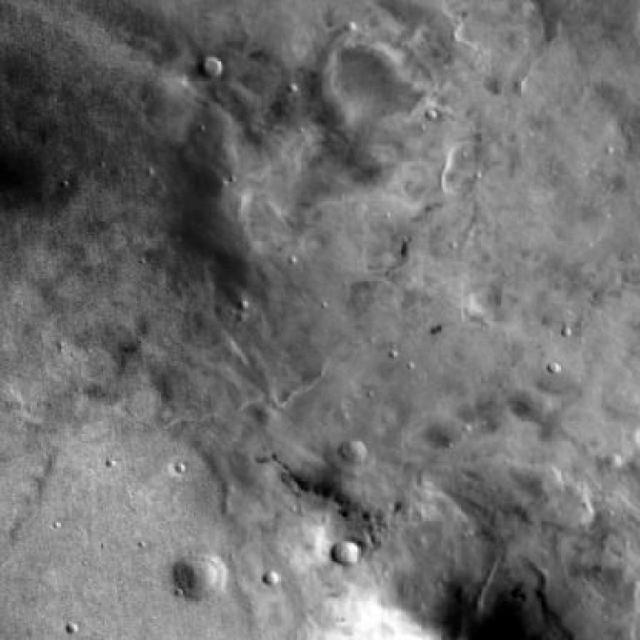crater: (174, 557, 226, 603), (333, 542, 359, 564), (199, 57, 223, 78), (342, 441, 366, 462)
